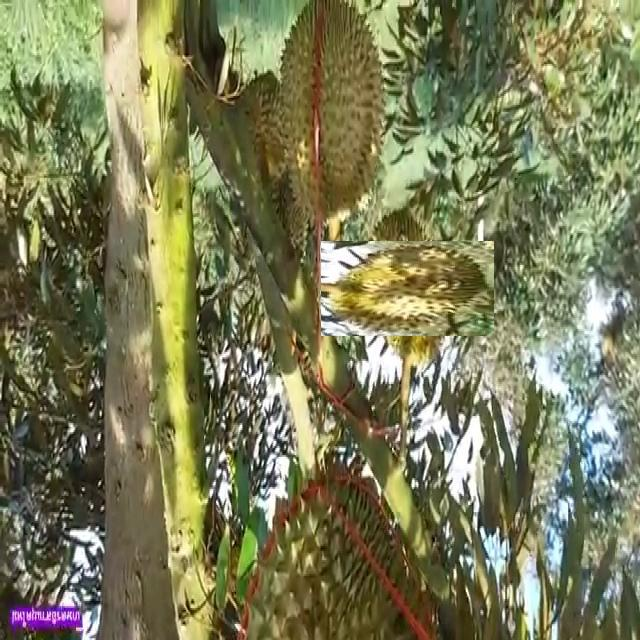durian: (275, 2, 390, 236), (340, 221, 475, 355), (214, 66, 300, 214)
